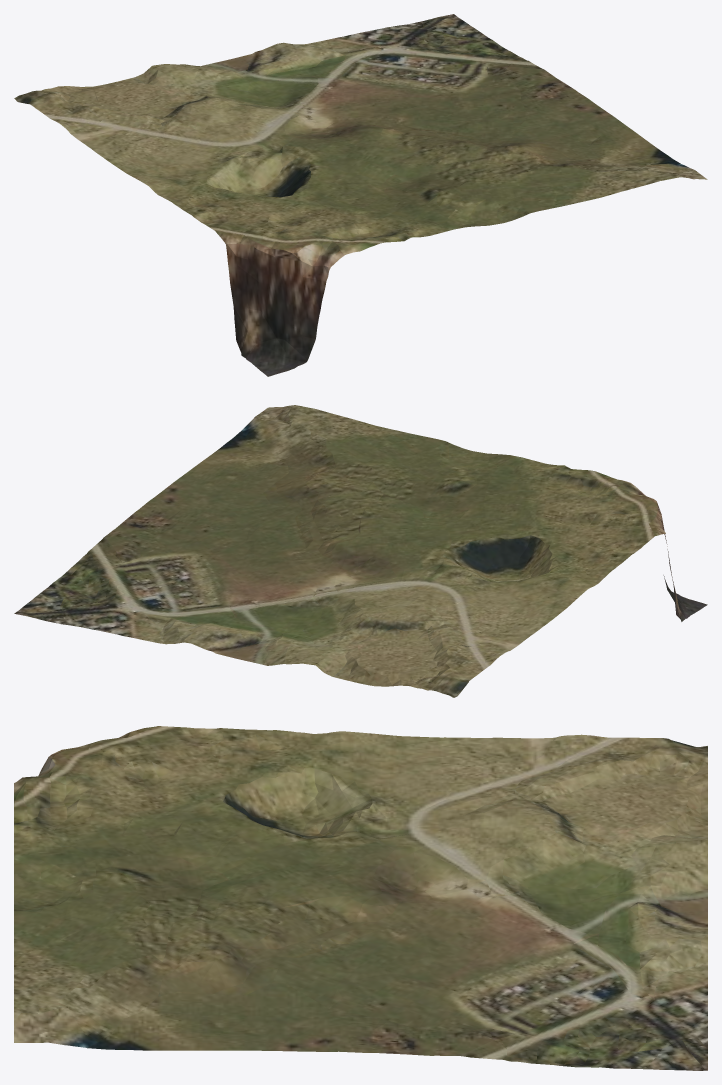
3 views of the same model, one above another, from view 1: azimuth 30°, elevation 25°; view 2: azimuth 150°, elevation 25°; view 3: azimuth 270°, elevation 25° (orthographic). The views are drawn at different scales.
Bounding box in the file's own units: 209 × 49.14 × 209.
Materials: 2 (2 with a texture image).
